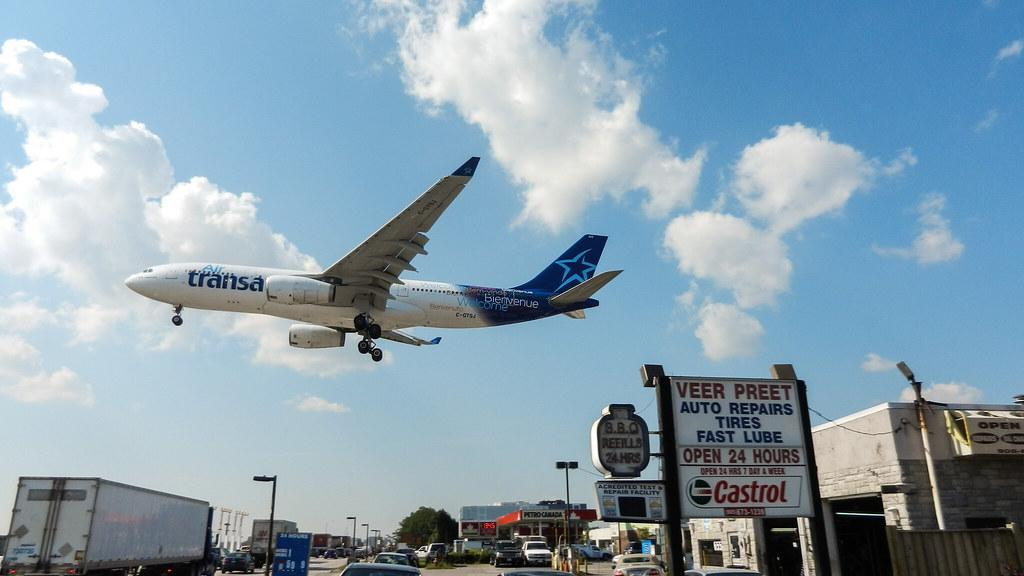plane: (124, 156, 625, 363)
